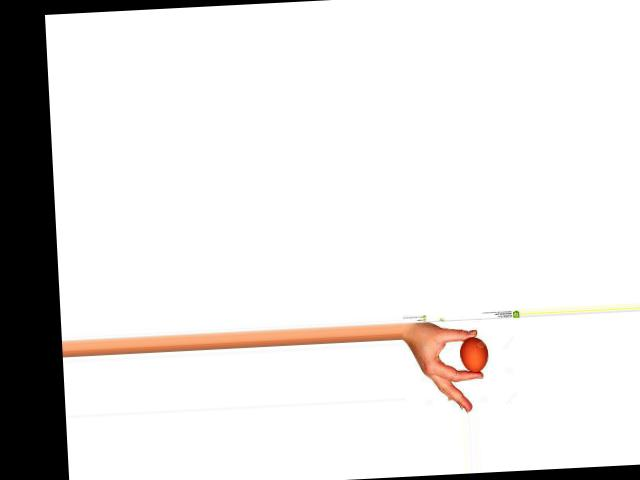egg: (458, 335, 488, 373)
